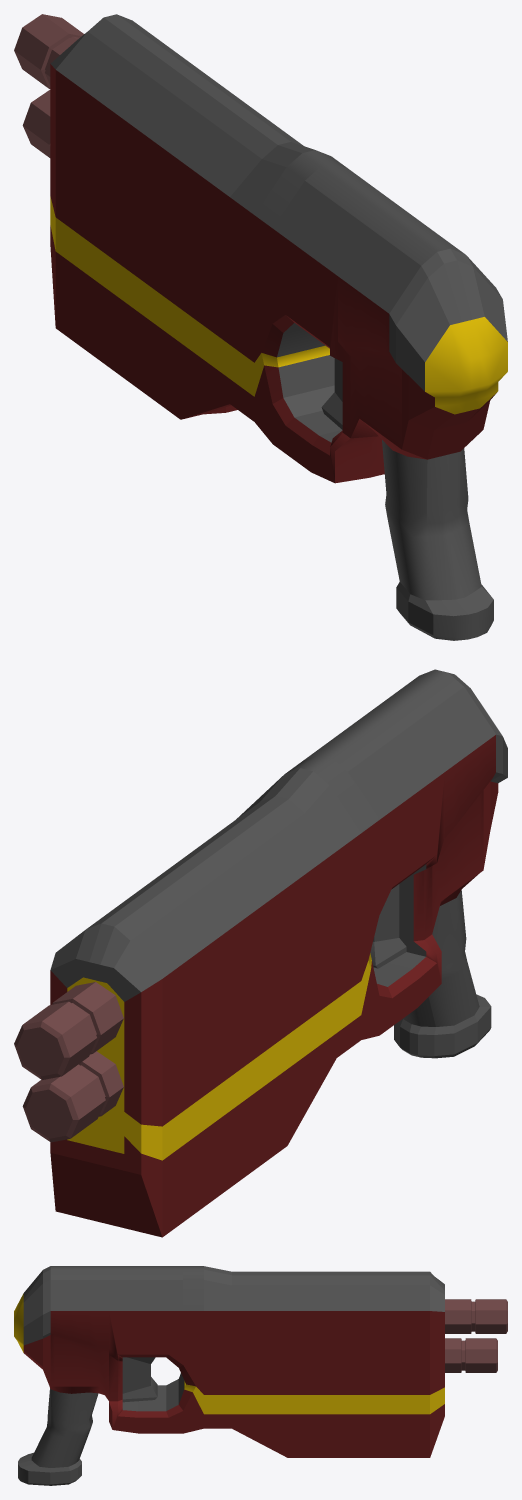
The model's file is DoubleBarrelPistol.fbx.
3 renders of one model, top to bottom at view 1: azimuth 30°, elevation 25°; view 2: azimuth 150°, elevation 25°; view 3: azimuth 270°, elevation 25°, orthographic. The views are drawn at different scales.
Visible parts, largest first — view 1: polySurface30; view 2: polySurface30; view 3: polySurface30.
Boxes of the visible parts, left/top/right/bottom form: polySurface30: left=14, top=14, right=507, bottom=640; polySurface30: left=14, top=669, right=507, bottom=1237; polySurface30: left=14, top=1266, right=507, bottom=1485.
Size of the model in its own units: 0.5099 by 1.67 by 3.59.
